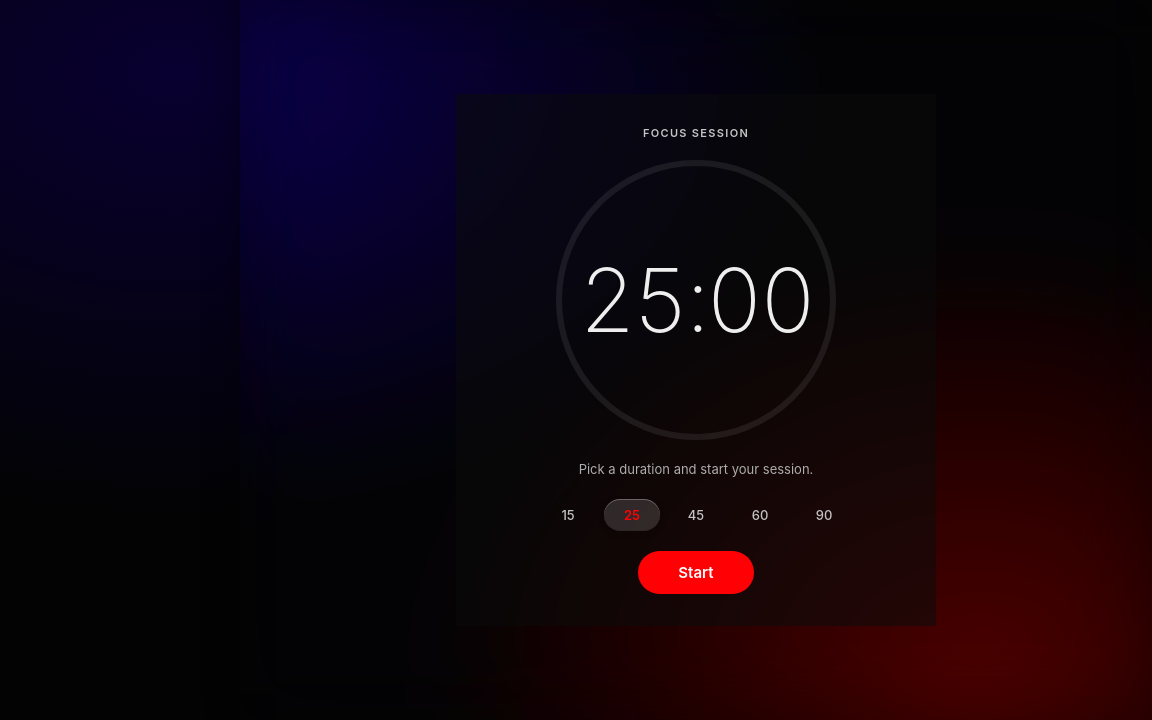
Test: FocusTimer › active chip is announced via aria-pressed; running disables chips
# Switch to 45.
Click the button named "45 minutes".
click(696, 515)  # box [668,499,724,531]
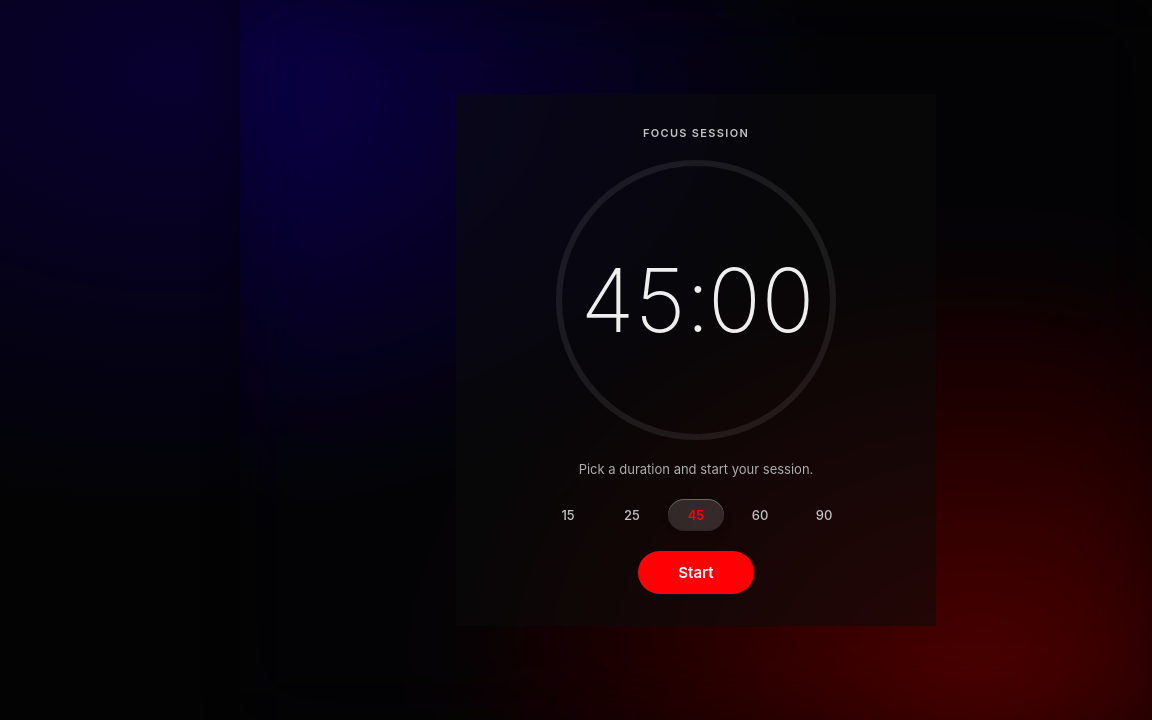
Expected: the button named "45 minutes" is pressed, [668,499,724,531]
# Start running — chips should disable.
Click the button "Start".
click(696, 573)  # box [638,551,754,594]
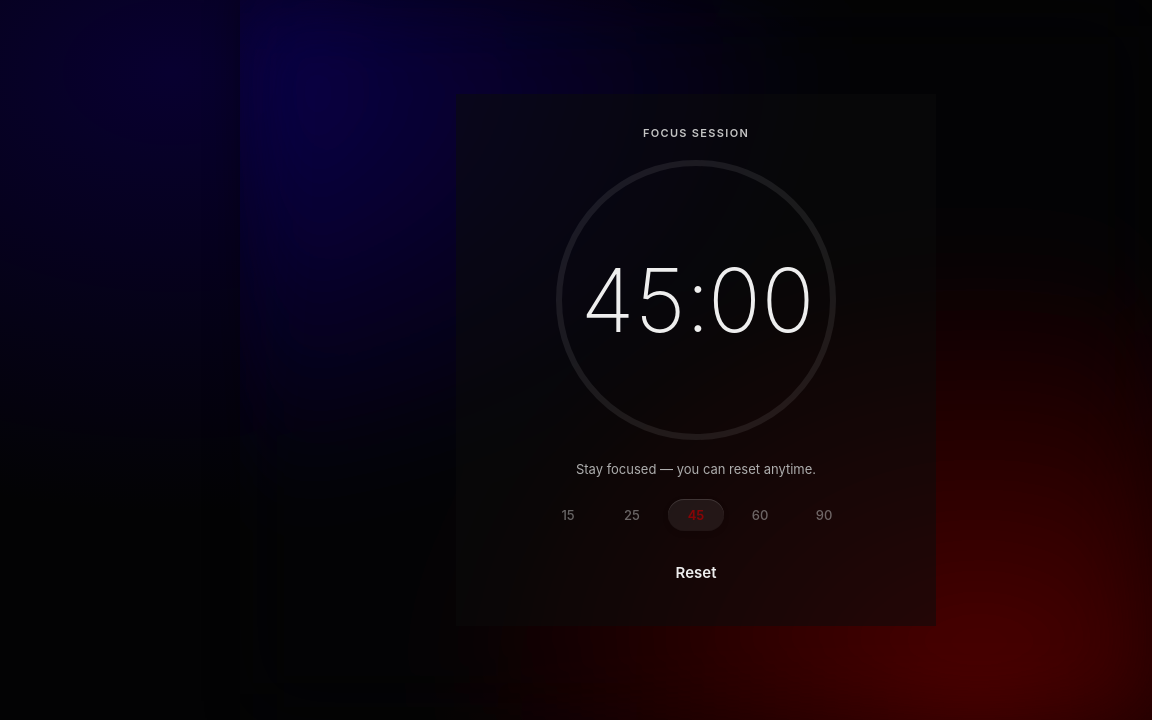
Expected: the button named "15 minutes" is disabled, [540,499,596,531]
Expected: the button named "90 minutes" is disabled, [796,499,852,531]
